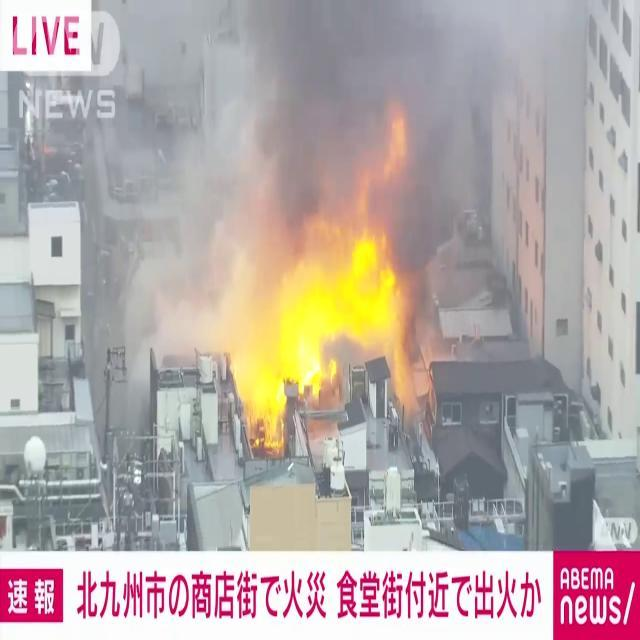Fire: (228, 182, 424, 446)
Smoke: (144, 0, 546, 294)
